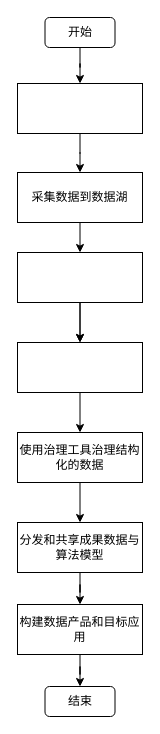
Image size: 160x734. Some labels were removed from this diagram. The centre of each missing label's shape, as x and y in pixels:
"使用应用支撑系统部署各基础设施组件和应用系统" goes at point (79, 108).
"建库，将数据按规则组织，形成数据资源体系" goes at point (79, 367).
"结构化与融合处理数据" goes at point (79, 277).
